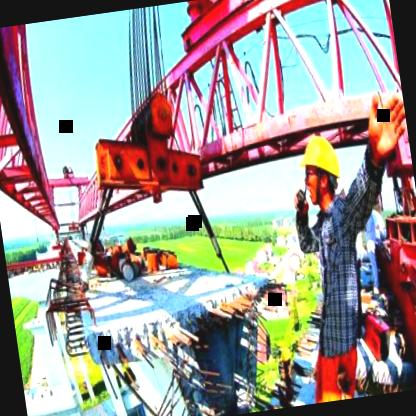helmet: (292, 131, 348, 214)
